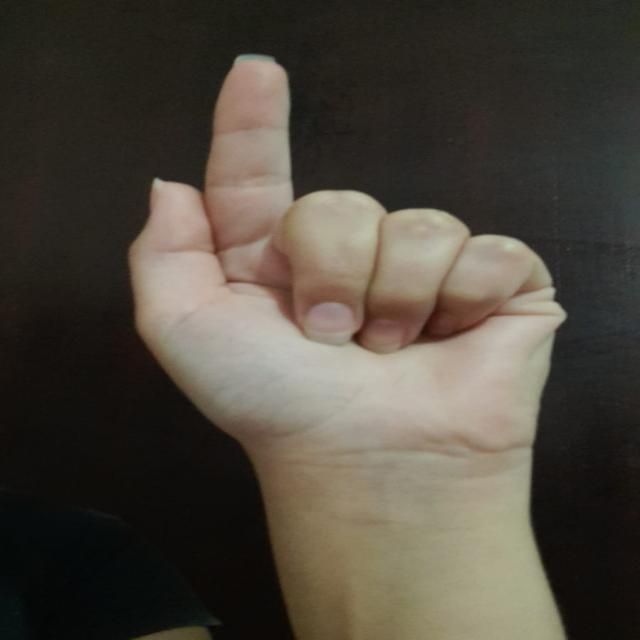G: (96, 42, 584, 460)
